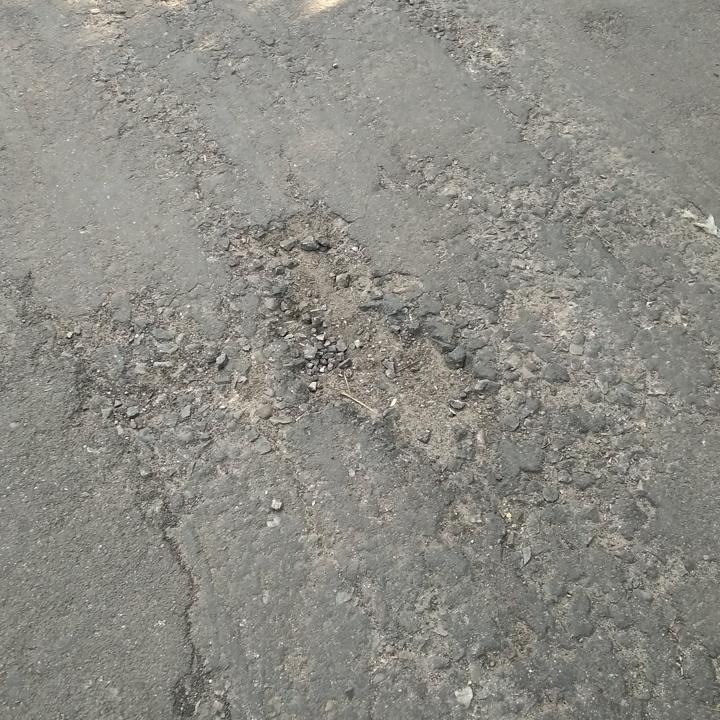pothole: (217, 196, 493, 464)
